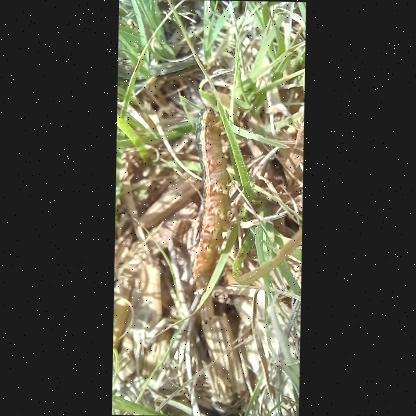Fall Armyworm Larvae: (187, 103, 237, 299)
